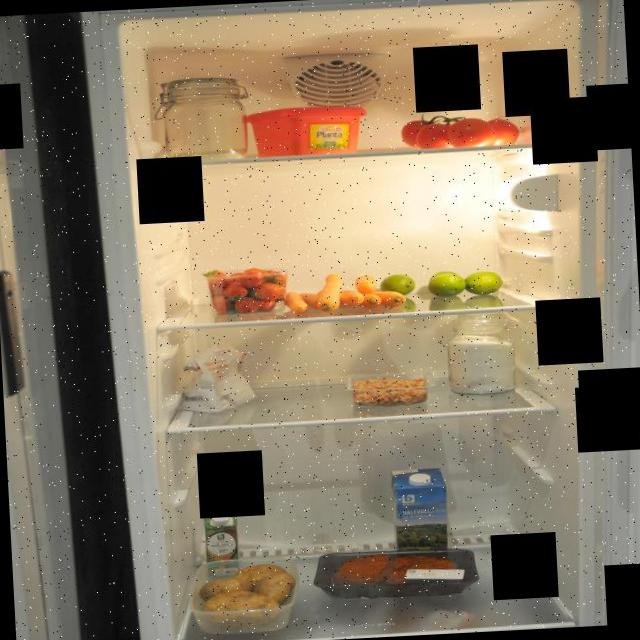Carne vacuno: (312, 544, 480, 604)
Gambas/Langostinos: (350, 373, 431, 407)
Leche: (389, 464, 455, 564)
Mantequilla: (244, 102, 370, 160)
Patata: (194, 554, 304, 632)
Tomate: (395, 103, 523, 155)
Zanahoria: (280, 269, 409, 316)
flour: (152, 67, 252, 167), (182, 342, 266, 414)
heavy_cream: (203, 512, 240, 578)
strawberries: (197, 262, 290, 316)
sugar: (446, 309, 518, 396)
